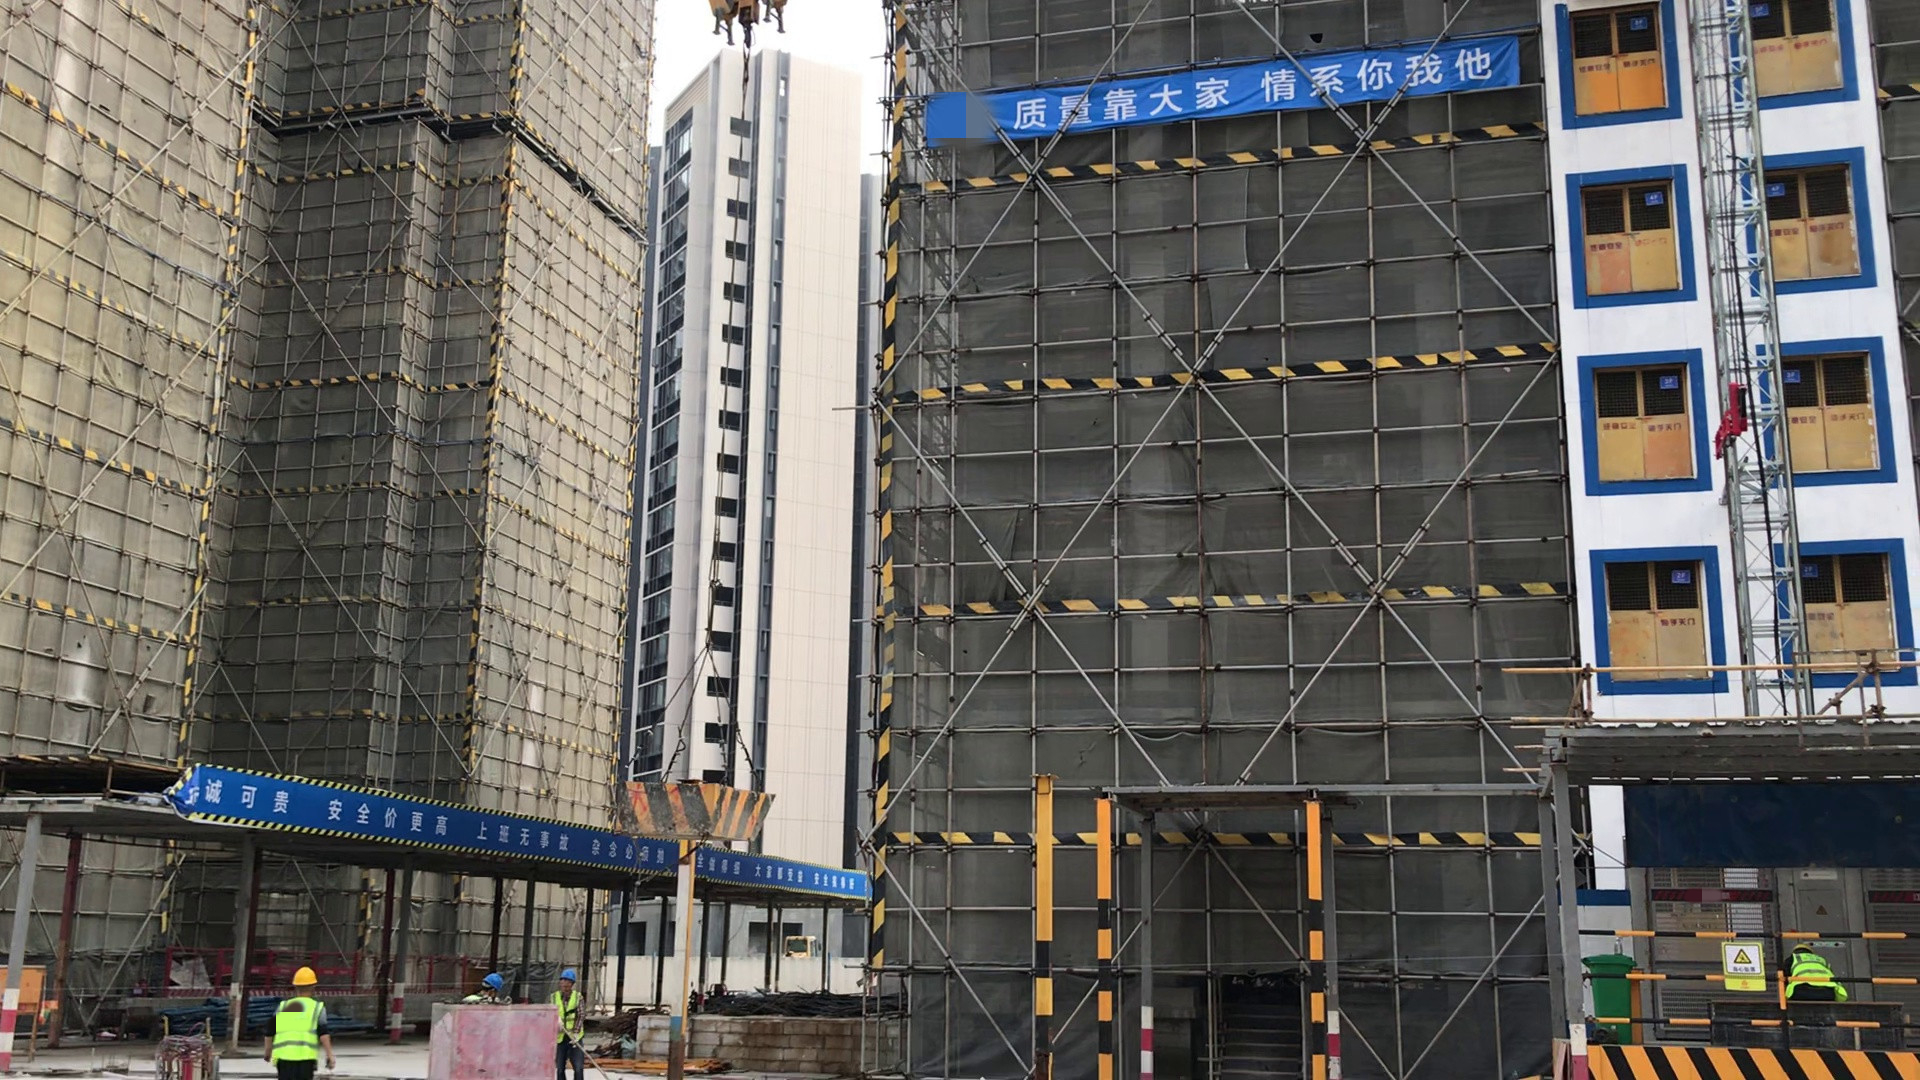fence: (170, 950, 466, 995)
handcart: (152, 1014, 220, 1080)
helmet: (292, 967, 314, 985), (482, 972, 501, 990), (560, 970, 575, 982)
hopper: (601, 772, 779, 850)
person: (262, 964, 336, 1080), (547, 968, 584, 1080), (1783, 945, 1841, 1003)
slogan: (188, 761, 865, 903), (1012, 26, 1532, 141)
vest: (272, 997, 320, 1062), (1784, 952, 1848, 999), (552, 990, 581, 1042)
